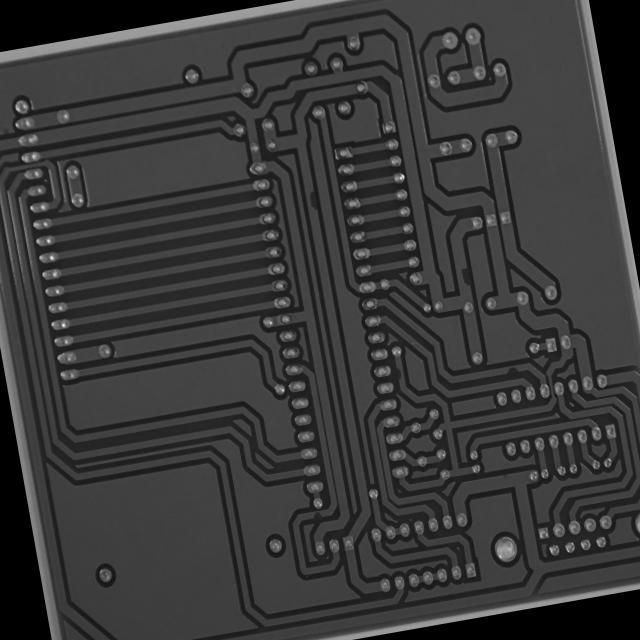mouse_bite: (301, 186, 321, 217), (454, 262, 472, 290), (499, 361, 523, 378), (307, 506, 327, 523), (392, 362, 405, 383)
